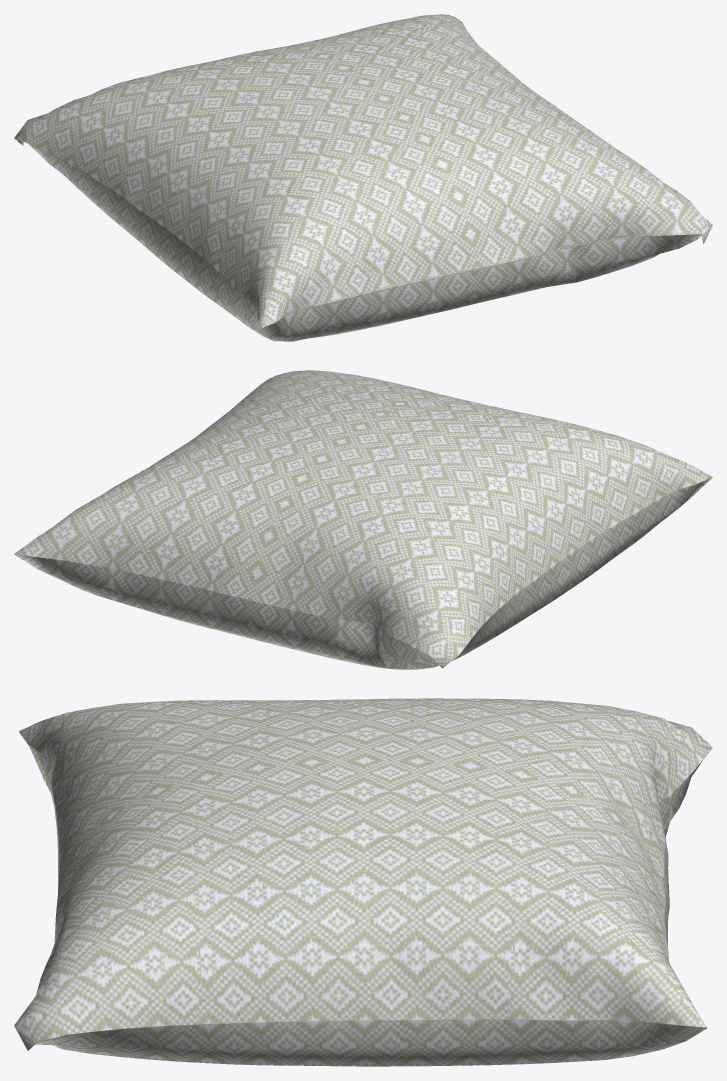
Rendered from Pillow01.FBX.
3 views of the same model, one above another, from view 1: azimuth 30°, elevation 25°; view 2: azimuth 150°, elevation 25°; view 3: azimuth 270°, elevation 25° (orthographic). The views are drawn at different scales.
Parts seen in each view (by area): view 1: Pillow01; view 2: Pillow01; view 3: Pillow01.
Part boxes in pixels (left/top/right/bottom): Pillow01: left=14, top=14, right=712, bottom=341; Pillow01: left=14, top=370, right=712, bottom=669; Pillow01: left=14, top=698, right=712, bottom=1066.
Size of the model in its own units: 26.6 by 8.24 by 26.58.
